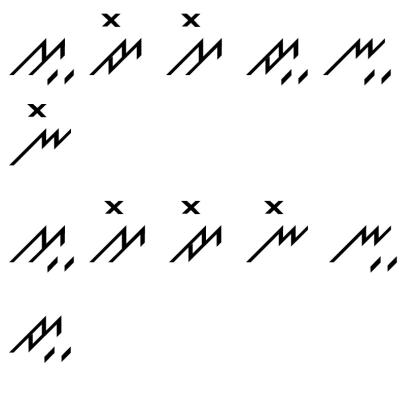jah: (7, 313, 77, 369), (244, 32, 310, 87)
jo: (163, 195, 231, 267), (89, 11, 145, 79)
nyah: (324, 218, 400, 276), (320, 30, 395, 88)
nyo: (243, 195, 311, 269), (3, 100, 78, 167)
sah: (5, 221, 76, 280), (11, 32, 79, 86)
so: (162, 7, 225, 83), (85, 198, 149, 265)
